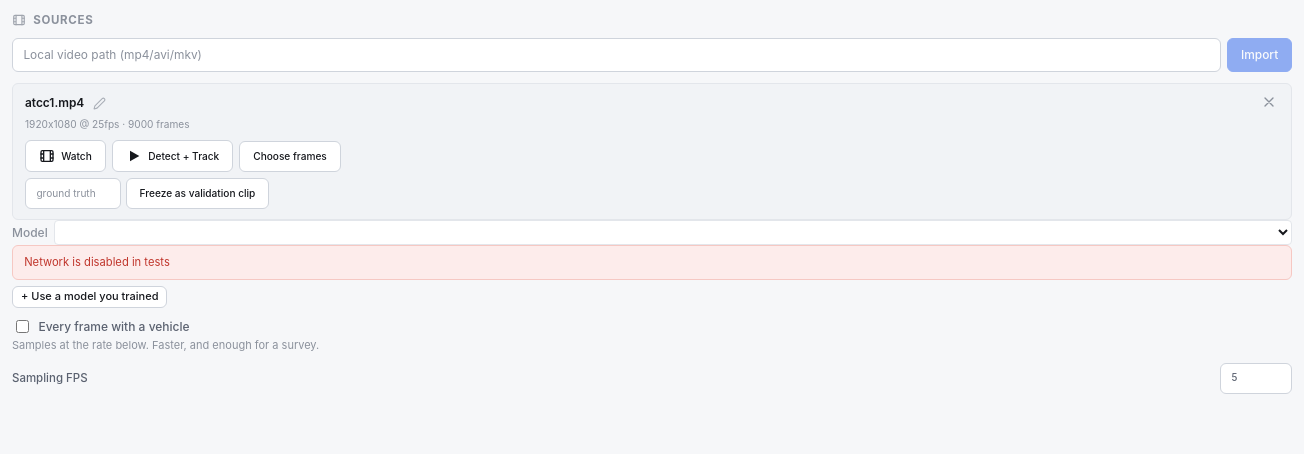
Scenario: SourcePanel: choosing frames › shows the server's reason when selection cannot be started
Click the button "Choose frames" at (290, 156), box [239,141,341,172]
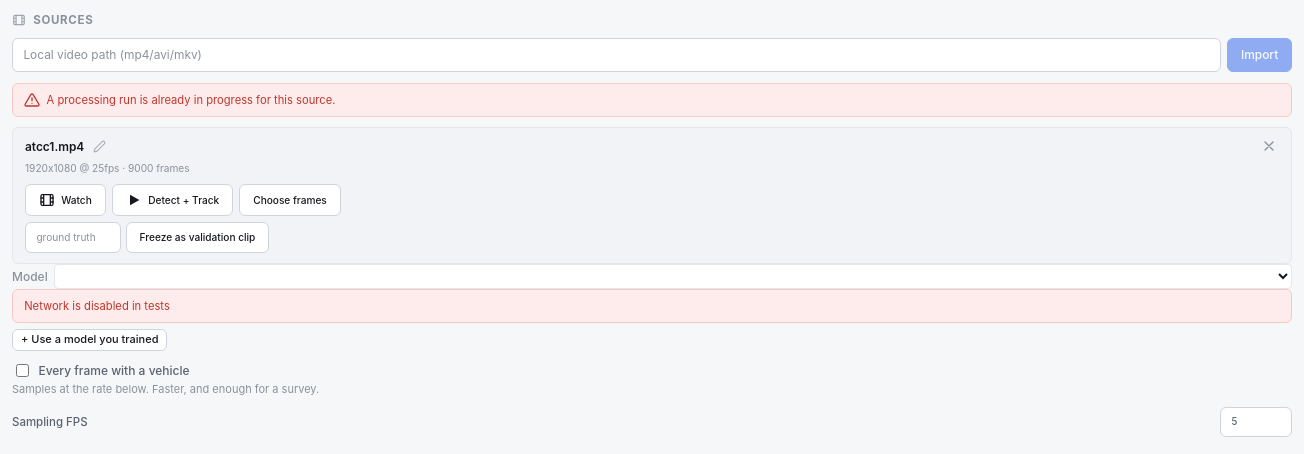
Expected: the text "A processing run is already in progress for this source." is shown, [12,83,1292,117]
